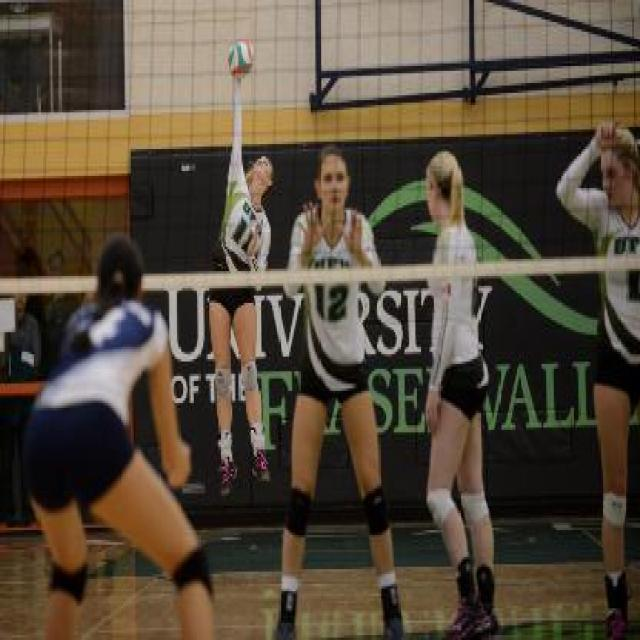volleyball: (227, 38, 257, 78)
